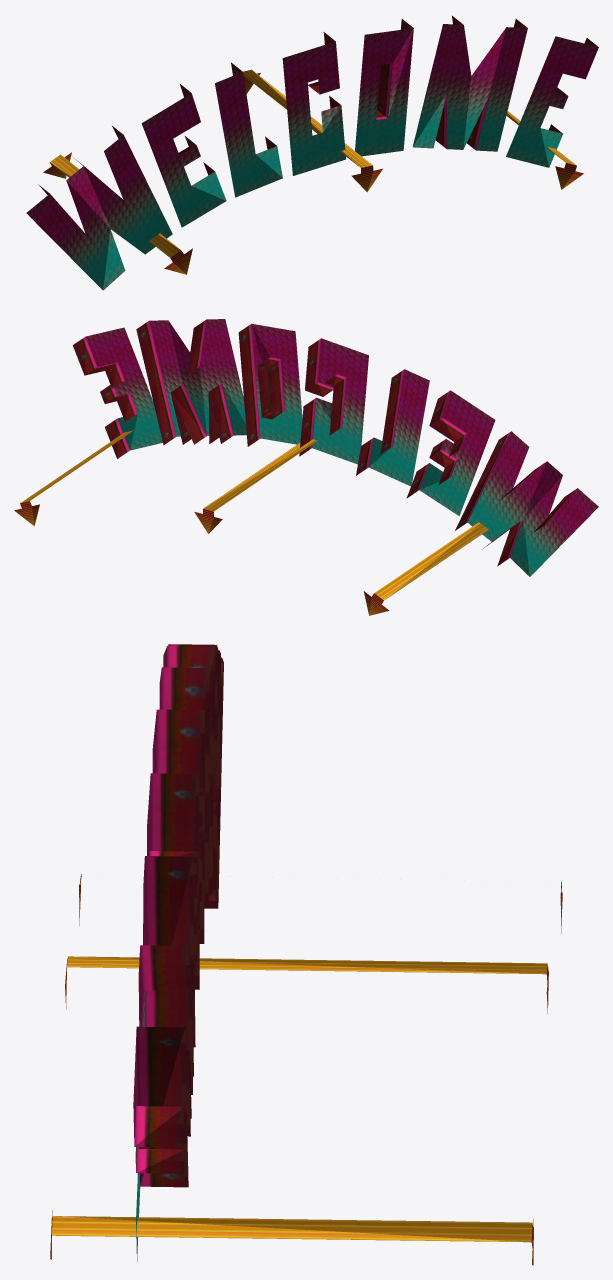
File: stg110_MotSign_03.obj
3 renders of one model, top to bottom at view 1: azimuth 30°, elevation 25°; view 2: azimuth 150°, elevation 25°; view 3: azimuth 270°, elevation 25°, orthographic. The views are drawn at different scales.
Parts seen in each view (by area): view 1: polygon0, polygon2, polygon1; view 2: polygon0, polygon1, polygon2; view 3: polygon1, polygon2, polygon0.
Part boxes in pixels (x1,y1,x2,y2): polygon0: (26, 24, 598, 290); polygon2: (43, 69, 583, 274); polygon1: (38, 16, 597, 194); polygon0: (86, 319, 598, 576); polygon1: (73, 319, 577, 566); polygon2: (14, 430, 488, 615); polygon1: (134, 644, 223, 1187); polygon2: (50, 874, 562, 1265); polygon0: (133, 644, 168, 1261).
Bounding box in the file's own units: 151 × 50.63 × 63.9.
